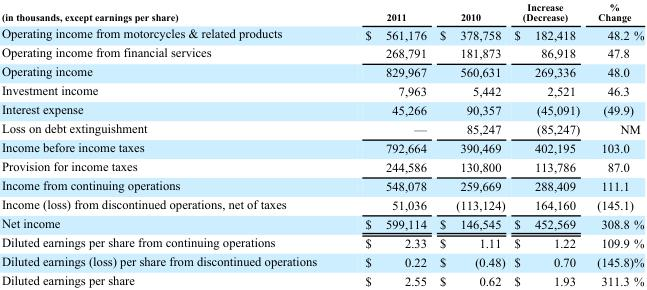table: (0, 1, 643, 287)
table column: (0, 1, 340, 287), (340, 1, 432, 287), (509, 1, 587, 287), (432, 1, 509, 287), (587, 1, 643, 287)
table column header: (0, 1, 643, 24)
table row: (0, 1, 643, 24), (0, 24, 643, 43), (0, 43, 643, 62), (0, 62, 643, 81), (0, 99, 643, 118), (0, 118, 643, 137), (0, 137, 643, 156), (0, 156, 643, 175), (0, 175, 643, 194), (0, 194, 643, 213), (0, 213, 643, 232), (0, 232, 643, 251), (0, 251, 643, 270), (0, 81, 643, 99), (0, 270, 643, 287)
